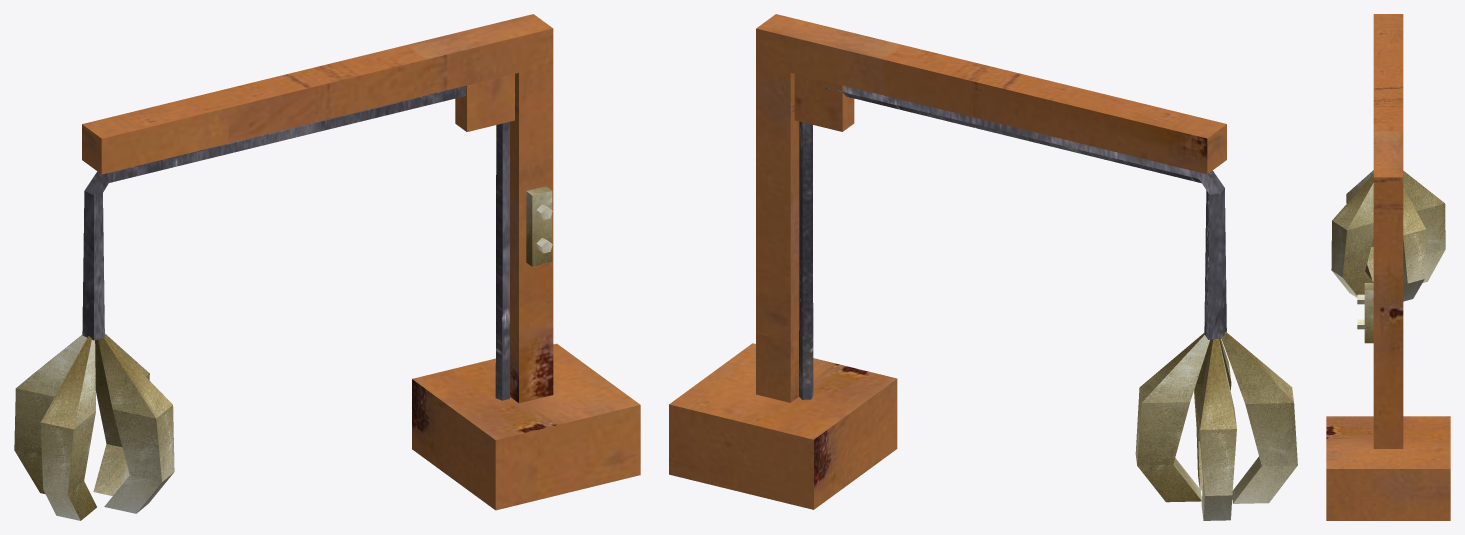
Rendered from crane.fbx.
3 renders of one model, left to right at view 1: azimuth 30°, elevation 25°; view 2: azimuth 150°, elevation 25°; view 3: azimuth 270°, elevation 25°, orthographic. The views are drawn at different scales.
Parts seen in each view (by area): view 1: Cube.001, Cube.002, Cube.004; view 2: Cube.001, Cube.002, Cube.004; view 3: Cube.001, Cube.002.
Part boxes in pixels (left/top/right/bottom): Cube.001: left=82, top=14, right=640, bottom=510; Cube.002: left=14, top=334, right=174, bottom=520; Cube.004: left=82, top=191, right=104, bottom=340; Cube.001: left=669, top=14, right=1226, bottom=509; Cube.002: left=1135, top=332, right=1297, bottom=520; Cube.004: left=1204, top=188, right=1226, bottom=339; Cube.001: left=1326, top=14, right=1450, bottom=520; Cube.002: left=1331, top=170, right=1445, bottom=301.
Size of the model in its own units: 789 by 576 by 200.
